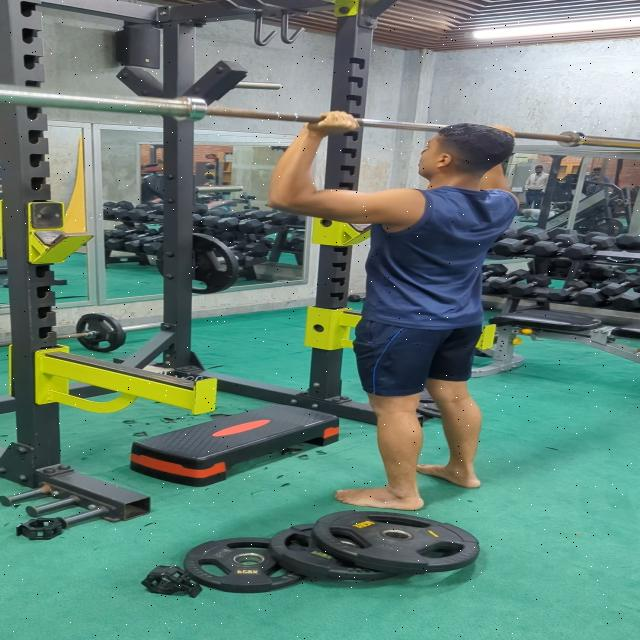Normal_OverheadPress: (258, 103, 533, 510)
